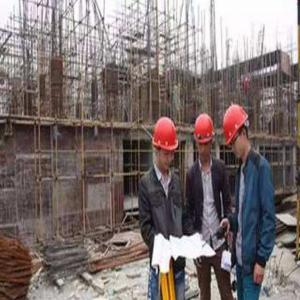red: (224, 104, 252, 158), (153, 116, 178, 169), (194, 112, 215, 161)
